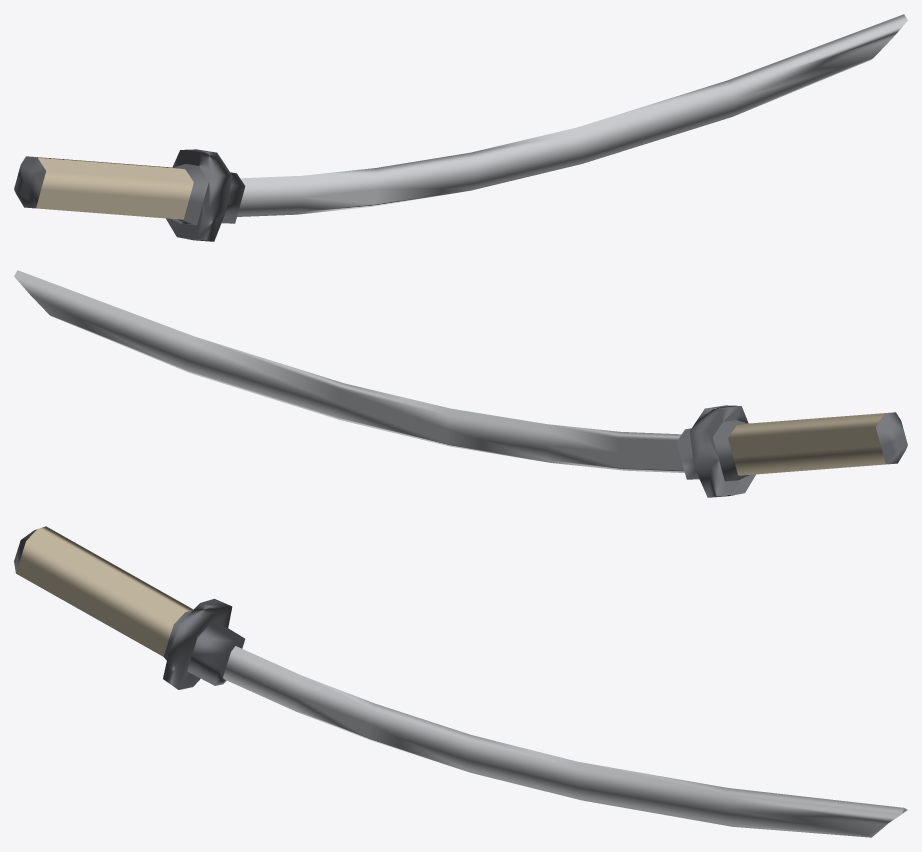
The model's file is blade.glb.
3 renders of one model, top to bottom at view 1: azimuth 30°, elevation 25°; view 2: azimuth 150°, elevation 25°; view 3: azimuth 330°, elevation 25°, orthographic.
Visible parts, largest first — view 1: blade; view 2: blade; view 3: blade.
Boxes of the visible parts, bbox=[...] form: blade: bbox=[14, 14, 907, 241]; blade: bbox=[14, 270, 907, 497]; blade: bbox=[14, 526, 907, 837].
Bounding box in the file's own units: 0.8 × 0.12 × 0.0671.
